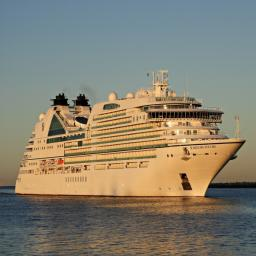cruises: (14, 67, 248, 203)
